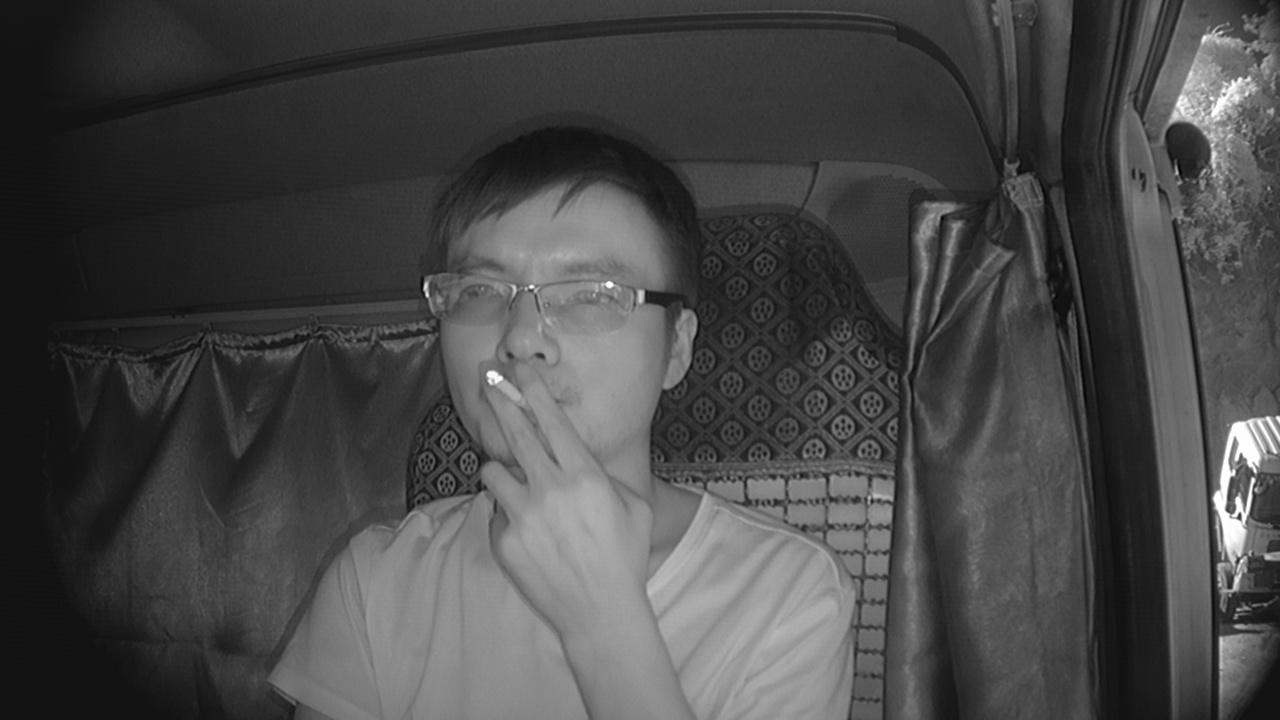hand: (470, 364, 634, 590)
